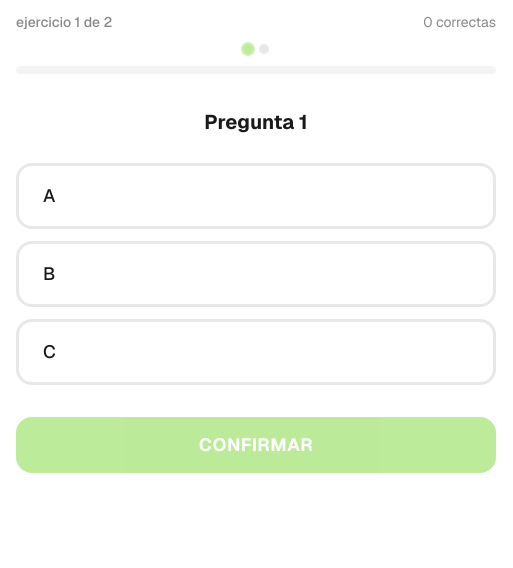
Test: LessonFlow › muestra mensaje de error cuando fetch falla (en medio de la lección)
The width and height of the screenshot is (513, 568).
Click the button "A" at (49, 195), box top-left (16, 162), bottom-right (496, 228)
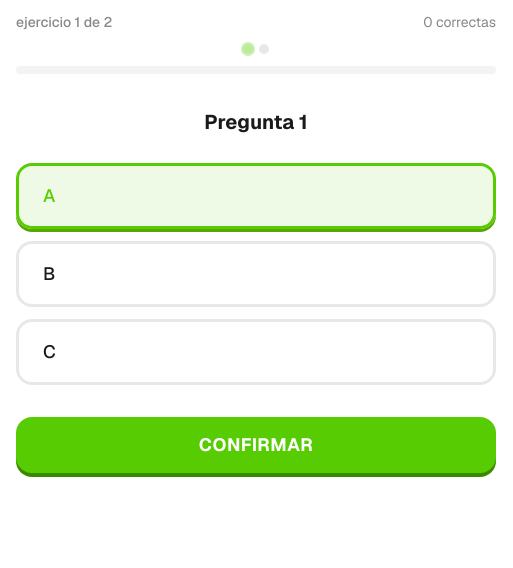
Click the button "confirmar" at (256, 444), box top-left (16, 416), bottom-right (496, 472)
Wait 600 ms
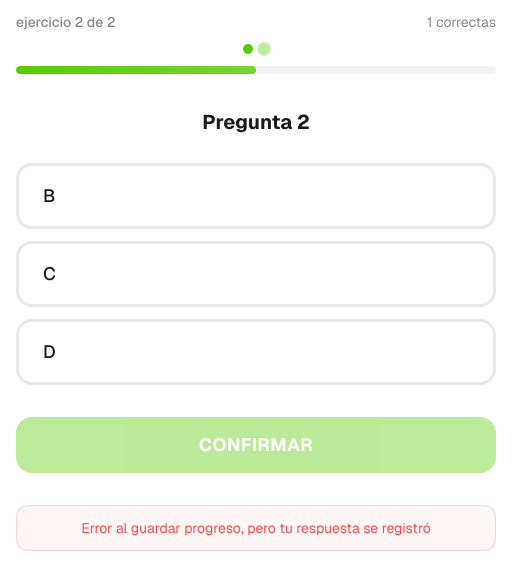
expect the text "Error al guardar progreso, pero tu respuesta se registró" is shown: met, box top-left (16, 504), bottom-right (496, 550)
